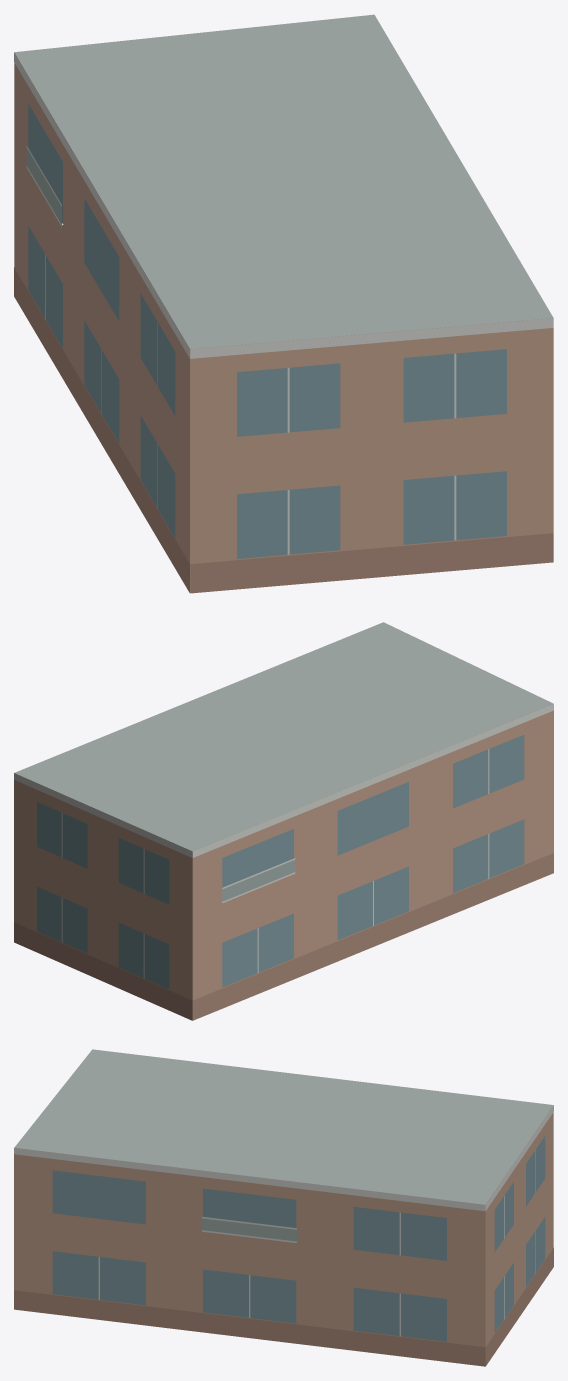
The model's file is survey-upis-32830329.glb.
3 renders of one model, top to bottom at view 1: azimuth 30°, elevation 25°; view 2: azimuth 150°, elevation 25°; view 3: azimuth 270°, elevation 25°, orthographic. The views are drawn at different scales.
Parts seen in each view (by area): view 1: survey-upis-32830329.tmp; view 2: survey-upis-32830329.tmp; view 3: survey-upis-32830329.tmp.
Part boxes in pixels (x1,y1,x2,y2): survey-upis-32830329.tmp: [14, 14, 553, 593]; survey-upis-32830329.tmp: [14, 622, 553, 1020]; survey-upis-32830329.tmp: [14, 1049, 553, 1366].
Bounding box in the file's own units: 12.59 × 6.1 × 18.45.
